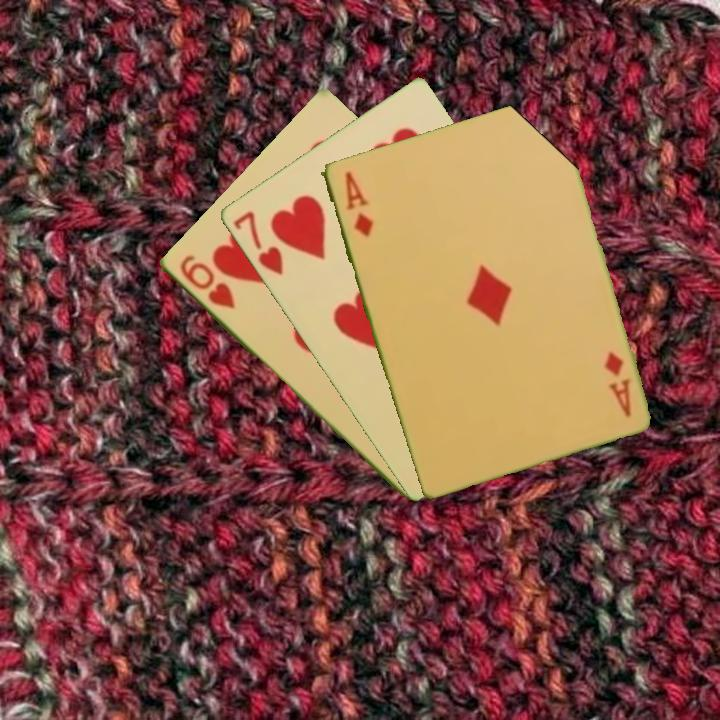6h: (175, 251, 237, 312)
7h: (229, 207, 286, 279)
Ad: (341, 167, 376, 240), (600, 348, 634, 420)
